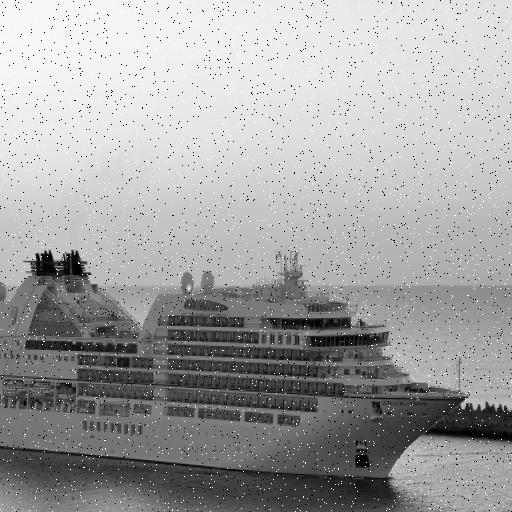cruises: (1, 237, 475, 491)
